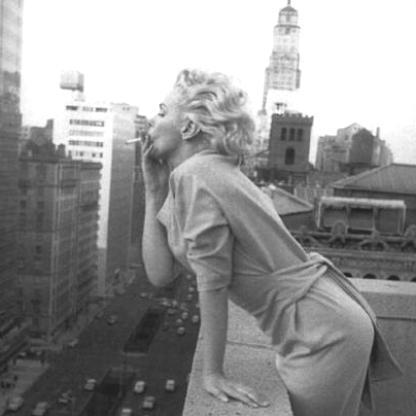cigarette: (124, 135, 149, 146)
person: (143, 70, 379, 412)
